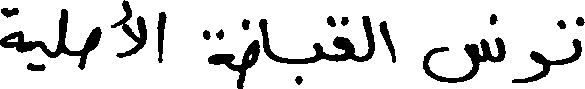ا: (378, 18, 395, 63), (257, 16, 271, 59), (156, 9, 165, 63)
ب: (293, 40, 322, 85)
ة: (201, 27, 233, 72), (327, 13, 352, 62), (0, 6, 24, 54)
ت: (548, 15, 582, 71)
س: (421, 36, 488, 83)
ص: (81, 25, 100, 71)
ض: (240, 17, 259, 88)
ل: (57, 7, 66, 58)
لا: (110, 0, 144, 58)
ن: (486, 11, 503, 63)
و: (513, 49, 550, 83)
ي: (22, 30, 44, 71), (360, 13, 372, 62)
